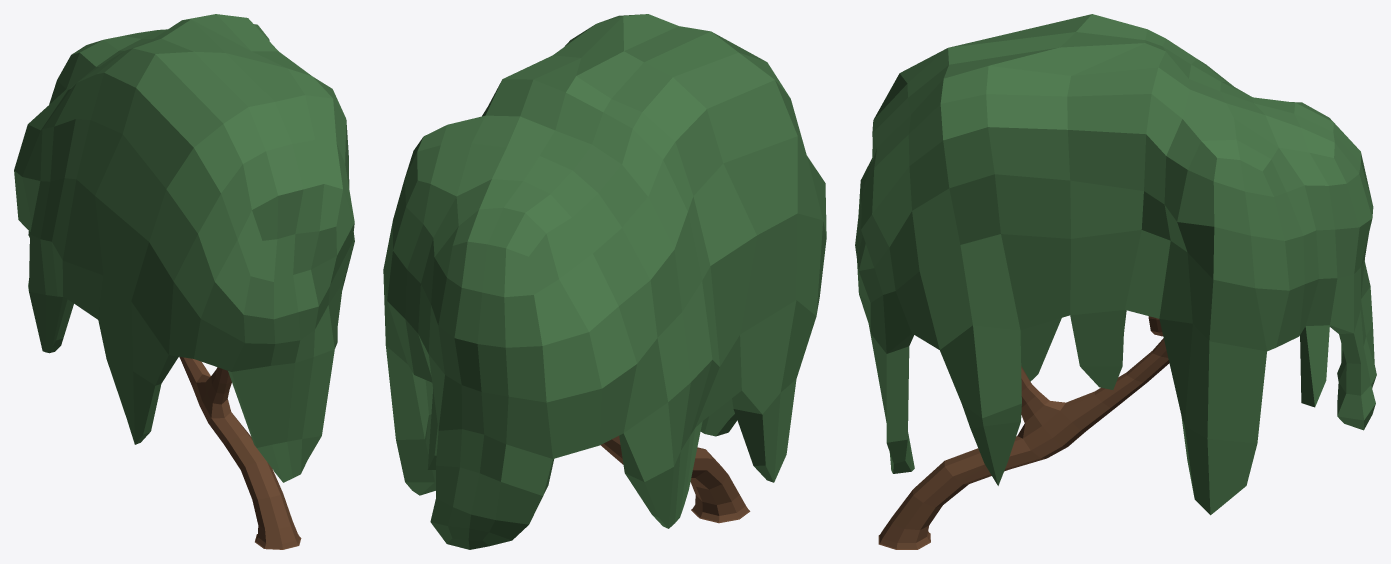
File: saule.glb
The picture shows the model from 3 angles, left to right: view 1: azimuth 30°, elevation 25°; view 2: azimuth 150°, elevation 25°; view 3: azimuth 270°, elevation 25°; orthographic projection. The views are drawn at different scales.
Visible parts, largest first — view 1: saule; view 2: saule; view 3: saule.
Part boxes in pixels (x1,y1,x2,y2): saule: (14, 14, 354, 549); saule: (383, 14, 826, 549); saule: (855, 14, 1376, 549).
Bounding box in the file's own units: 5 × 8.5 × 7.95.
